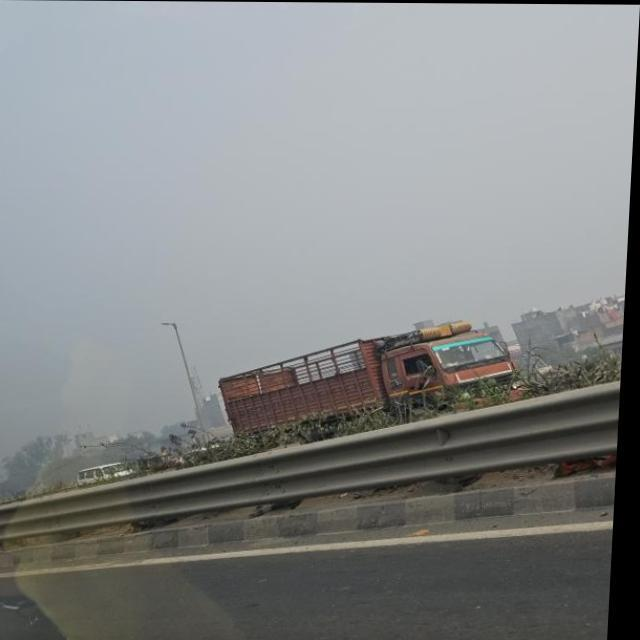uncovered: (178, 316, 556, 416)
